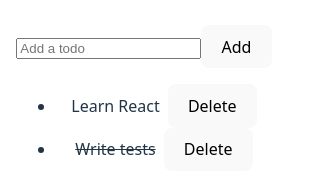
TodoList › adds a new todo
The width and height of the screenshot is (320, 194).
Type "New Task" into the field named "todo-input" at (109, 48), box [16,38,201,59]
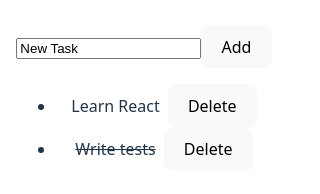
Submit the form named "add-todo-form", box [16,25,272,68]
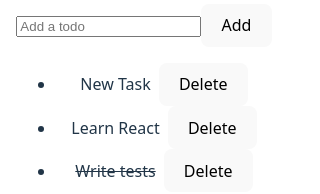
Expected: the button "New Task" is shown, [80,73,151,95]
